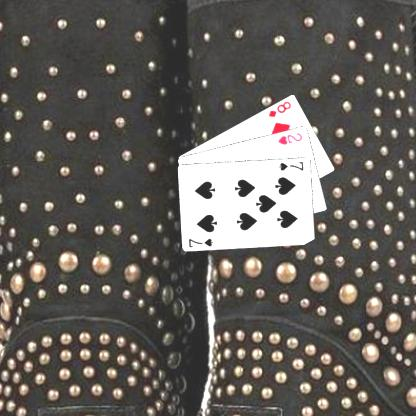2H: (276, 130, 303, 146)
7S: (277, 158, 305, 172), (186, 236, 214, 249)
8D: (265, 98, 292, 118)
